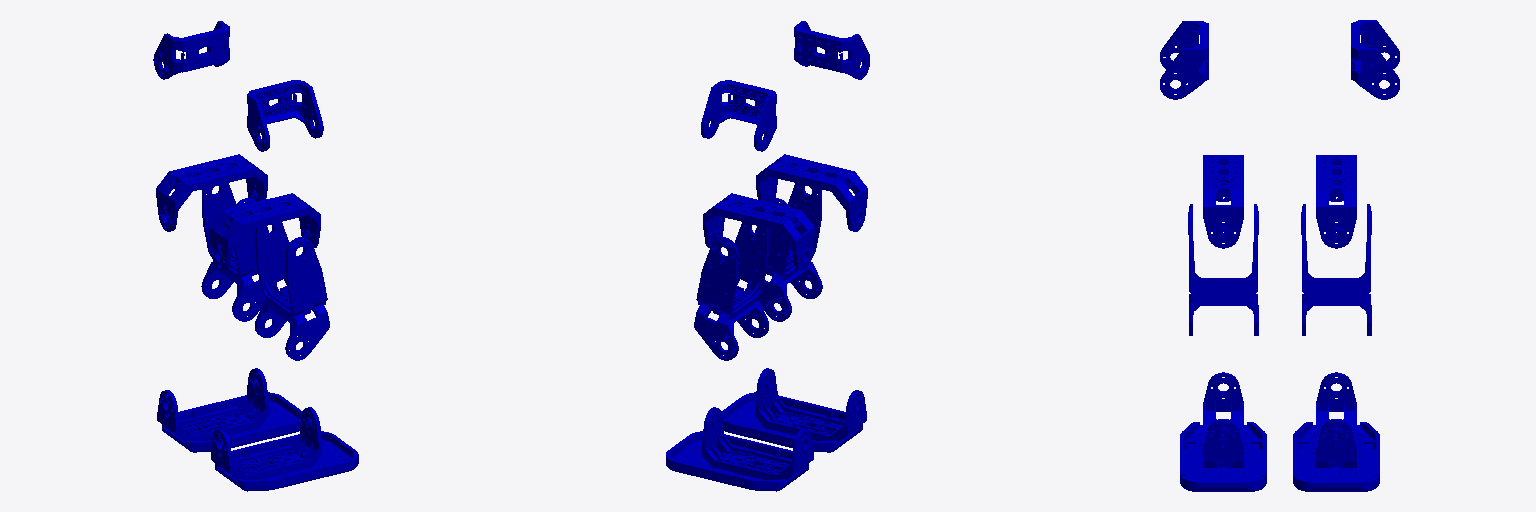
The robot description file, URDF, robot "loadscanner":
<?xml version="1.0"?>
<robot name="loadscanner">
  <material name="blue">
    <color rgba="0 0 0.8 1"/>
  </material>
  <material name="black">
    <color rgba="0 0 0 1"/>
  </material>
  <material name="white">
    <color rgba="1 1 1 1"/>
  </material>
  <material name="orange">
    <color rgba="1 0.4235 0.03921 1"/>
  </material>

  <link name="base_link">
    <origin xyz="0.0 0.0 0.0" rpy="0.0 0.0 0.0" />
  </link>

  <link name="base_footprint">
    <visual>
      <origin xyz="0.0 0.0 0.0" rpy="0.0 0.0 0.0" />
      <geometry>
        <!-- <box size="0.1 0.05 0.15" /> -->
        <mesh filename="package://bioloid_description/meshes/base.dae"/>
      </geometry>
      <material name="blue"/>
    </visual>
  </link>

  <joint name="base_link_to_footprint_joint" type="fixed">
    <parent link="base_link"/>
    <child link="base_footprint"/>
    <origin xyz="0.0 0.0 0.0" rpy="0.0 0.0 0.0"/>
  </joint>

  <!-- LEFT ARM -->

  <link name="left_shoulder_link">
    <visual>
      <origin xyz="0.0 0.0 0.0" rpy="0.0 0.0 0.0" />
      <geometry>
        <mesh filename="package://bioloid_description/meshes/shoulder.dae"/>
      </geometry>
      <material name="blue"/>
    </visual>
  </link>

  <joint name="left_shoulder_joint" type="revolute">
    <axis xyz="0 1 0"/>
    <limit effort="1000.0" lower="-3.14" upper="3.14" velocity="0.5"/>
    <parent link="base_footprint"/>
    <child link="left_shoulder_link"/>
    <origin xyz="0.0 0.049 0.0" rpy="0.0 0.0 0.0"/>
  </joint>

  <link name="left_arm_link">
    <visual>
      <origin xyz="0.0 0.0 0.0" rpy="0.0 0.0 0.0" />
      <geometry>
        <mesh filename="package://bioloid_description/meshes/arm.dae"/>
      </geometry>
      <material name="blue"/>
    </visual>
  </link>

  <joint name="left_arm_joint" type="revolute">
    <axis xyz="1 0 0"/>
    <limit effort="1000.0" lower="-3.14" upper="3.14" velocity="0.5"/>
    <parent link="left_shoulder_link"/>
    <child link="left_arm_link"/>
    <origin xyz="0.0 0.023 -0.0145" rpy="0.0 0.0 0.0"/>
  </joint>

  <link name="left_forearm_link">
    <visual>
      <origin xyz="0.0 0.0 0.0" rpy="0.0 0.0 0.0" />
      <geometry>
        <mesh filename="package://bioloid_description/meshes/left_forearm.dae"/>
      </geometry>
      <material name="blue"/>
    </visual>
  </link>

  <joint name="left_forearm_joint" type="revolute">
    <axis xyz="1 0 0"/>
    <limit effort="1000.0" lower="-3.14" upper="3.14" velocity="0.5"/>
    <parent link="left_arm_link"/>
    <child link="left_forearm_link"/>
    <origin xyz="0.0 0.0 -0.0675" rpy="0.0 0.0 0.0"/>
  </joint>

  <!-- RIGHT ARM -->
  <!-- Shoulder: visual Rotate 180 deg -->
  <link name="right_shoulder_link">
    <visual>
      <origin xyz="0.0 0.0 0.0" rpy="0.0 0.0 3.14" />
      <geometry>
        <mesh filename="package://bioloid_description/meshes/shoulder.dae"/>
      </geometry>
      <material name="blue"/>
    </visual>
  </link>

  <joint name="right_shoulder_joint" type="revolute">
    <axis xyz="0 1 0"/>
    <limit effort="1000.0" lower="-3.14" upper="3.14" velocity="0.5"/>
    <parent link="base_footprint"/>
    <child link="right_shoulder_link"/>
    <origin xyz="0.0 -0.049 0.0" rpy="0.0 0.0 0.0"/>
  </joint>

  <link name="right_arm_link">
    <visual>
      <origin xyz="0.0 0.0 0.0" rpy="0.0 0.0 0.0" />
      <geometry>
        <mesh filename="package://bioloid_description/meshes/arm.dae"/>
      </geometry>
      <material name="blue"/>
    </visual>
  </link>

  <joint name="right_arm_joint" type="revolute">
    <axis xyz="1 0 0"/>
    <limit effort="1000.0" lower="-3.14" upper="3.14" velocity="0.5"/>
    <parent link="right_shoulder_link"/>
    <child link="right_arm_link"/>
    <origin xyz="0.0 -0.023 -0.0145" rpy="0.0 0.0 0.0"/>
  </joint>

  <link name="right_forearm_link">
    <visual>
      <origin xyz="0.0 0.0 0.0" rpy="0.0 0.0 0.0" />
      <geometry>
        <mesh filename="package://bioloid_description/meshes/right_forearm.dae"/>
      </geometry>
      <material name="blue"/>
    </visual>
  </link>

  <joint name="right_forearm_joint" type="revolute">
    <axis xyz="1 0 0"/>
    <limit effort="1000.0" lower="-3.14" upper="3.14" velocity="0.5"/>
    <parent link="right_arm_link"/>
    <child link="right_forearm_link"/>
    <origin xyz="0.0 -0.0 -0.0675" rpy="0.0 0.0 0.0"/>
  </joint>


  <!-- LEG -->
  <!-- LEFT LEG -->

  <link name="left_hip_link">
    <visual>
      <origin xyz="0.0 0.0 0.0" rpy="0.0 0.0 0.0" />
      <geometry>
        <mesh filename="package://bioloid_description/meshes/hip.dae"/>
      </geometry>
      <material name="blue"/>
    </visual>
  </link>

  <joint name="left_hip_joint" type="revolute">
    <axis xyz="0 0 1"/>
    <limit effort="1000.0" lower="-3.14" upper="3.14" velocity="0.5"/>
    <parent link="base_footprint"/>
    <child link="left_hip_link"/>
    <origin xyz="0.0 0.039 -0.0918" rpy="0.0 0.0 0.0"/>
  </joint>

  <link name="left_hip_2_link">
    <visual>
      <origin xyz="0.0 0.0 0.0" rpy="0.0 0.0 0.0" />
      <geometry>
        <mesh filename="package://bioloid_description/meshes/hip-2.dae"/>
      </geometry>
      <material name="blue"/>
    </visual>
  </link>

  <joint name="left_hip_2_joint" type="revolute">
    <axis xyz="1 0 0"/>
    <limit effort="1000.0" lower="-3.14" upper="3.14" velocity="0.5"/>
    <parent link="left_hip_link"/>
    <child link="left_hip_2_link"/>
    <origin xyz="0.0 0.0 -0.029" rpy="0.0 0.0 0.0"/>
  </joint>

  <link name="left_thigh_link">
    <visual>
      <origin xyz="0.0 0.0 0.0" rpy="0.0 0.0 0.0" />
      <geometry>
        <mesh filename="package://bioloid_description/meshes/thigh.dae"/>
      </geometry>
      <material name="blue"/>
    </visual>
  </link>

  <joint name="left_thigh_joint" type="revolute">
    <axis xyz="0 1 0"/>
    <limit effort="1000.0" lower="-3.14" upper="3.14" velocity="0.5"/>
    <parent link="left_hip_2_link"/>
    <child link="left_thigh_link"/>
    <origin xyz="0.016 0.0 0.0" rpy="0.0 0.0 0.0"/>
  </joint>

  <link name="left_knee_link">
    <visual>
      <origin xyz="0.0 0.0 0.0" rpy="0.0 0.0 0.0" />
      <geometry>
        <mesh filename="package://bioloid_description/meshes/left-knee.dae"/>
      </geometry>
      <material name="blue"/>
    </visual>
  </link>

  <joint name="left_knee_joint" type="revolute">
    <axis xyz="0 1 0"/>
    <limit effort="1000.0" lower="-3.14" upper="3.14" velocity="0.5"/>
    <parent link="left_thigh_link"/>
    <child link="left_knee_link"/>
    <origin xyz="0.0 0.0 -0.076" rpy="0.0 0.0 0.0"/>
  </joint>

  <link name="left_ankle_link">
    <visual>
      <origin xyz="0.0 0.0 0.0" rpy="0.0 0.0 0.0" />
      <geometry>
        <mesh filename="package://bioloid_description/meshes/ankle.dae"/>
      </geometry>
      <material name="blue"/>
    </visual>
  </link>

  <joint name="left_ankle_joint" type="revolute">
    <axis xyz="0 1 0"/>
    <limit effort="1000.0" lower="-3.14" upper="3.14" velocity="0.5"/>
    <parent link="left_knee_link"/>
    <child link="left_ankle_link"/>
    <origin xyz="0.0 0.00 -0.0765" rpy="0.0 0.0 0.0"/>
  </joint>

  <link name="left_foot_link">
    <visual>
      <origin xyz="0.0 0.0 0.0" rpy="0.0 0.0 0.0" />
      <geometry>
        <mesh filename="package://bioloid_description/meshes/foot.dae"/>
      </geometry>
      <material name="blue"/>
    </visual>
  </link>

  <joint name="left_foot_joint" type="revolute">
    <axis xyz="1 0 0"/>
    <limit effort="1000.0" lower="-3.14" upper="3.14" velocity="0.5"/>
    <parent link="left_ankle_link"/>
    <child link="left_foot_link"/>
    <origin xyz="-0.015 0.00 0.0" rpy="0.0 0.0 0.0"/>
  </joint>


  <!-- RIGH LEG -->

  <link name="right_hip_link">
    <visual>
      <origin xyz="0.0 0.0 0.0" rpy="0.0 0.0 0.0" />
      <geometry>
        <mesh filename="package://bioloid_description/meshes/hip.dae"/>
      </geometry>
      <material name="blue"/>
    </visual>
  </link>

  <joint name="right_hip_joint" type="revolute">
    <axis xyz="0 0 1"/>
    <limit effort="1000.0" lower="-3.14" upper="3.14" velocity="0.5"/>
    <parent link="base_footprint"/>
    <child link="right_hip_link"/>
    <origin xyz="0.0 -0.039 -0.0918" rpy="0.0 0.0 0.0"/>
  </joint>

  <link name="right_hip_2_link">
    <visual>
      <origin xyz="0.0 0.0 0.0" rpy="0.0 0.0 0.0" />
      <geometry>
        <mesh filename="package://bioloid_description/meshes/hip-2.dae"/>
      </geometry>
      <material name="blue"/>
    </visual>
  </link>

  <joint name="right_hip_2_joint" type="revolute">
    <axis xyz="1 0 0"/>
    <limit effort="1000.0" lower="-3.14" upper="3.14" velocity="0.5"/>
    <parent link="right_hip_link"/>
    <child link="right_hip_2_link"/>
    <origin xyz="0.0 0.0 -0.029" rpy="0.0 0.0 0.0"/>
  </joint>

  <link name="right_thigh_link">
    <visual>
      <origin xyz="0.0 0.0 0.0" rpy="0.0 0.0 0.0" />
      <geometry>
        <mesh filename="package://bioloid_description/meshes/thigh.dae"/>
      </geometry>
      <material name="blue"/>
    </visual>
  </link>

  <joint name="right_thigh_joint" type="revolute">
    <axis xyz="0 1 0"/>
    <limit effort="1000.0" lower="-3.14" upper="3.14" velocity="0.5"/>
    <parent link="right_hip_2_link"/>
    <child link="right_thigh_link"/>
    <origin xyz="0.016 0.0 0.0" rpy="0.0 0.0 0.0"/>
  </joint>

  <link name="right_knee_link">
    <visual>
      <origin xyz="0.0 0.0 0.0" rpy="0.0 0.0 0.0" />
      <geometry>
        <mesh filename="package://bioloid_description/meshes/right-knee.dae"/>
      </geometry>
      <material name="blue"/>
    </visual>
  </link>

  <joint name="right_knee_joint" type="revolute">
    <axis xyz="0 1 0"/>
    <limit effort="1000.0" lower="-3.14" upper="3.14" velocity="0.5"/>
    <parent link="right_thigh_link"/>
    <child link="right_knee_link"/>
    <origin xyz="0.0 0.0 -0.076" rpy="0.0 0.0 0.0"/>
  </joint>

  <link name="right_ankle_link">
    <visual>
      <origin xyz="0.0 0.0 0.0" rpy="0.0 0.0 0.0" />
      <geometry>
        <mesh filename="package://bioloid_description/meshes/ankle.dae"/>
      </geometry>
      <material name="blue"/>
    </visual>
  </link>

  <joint name="right_ankle_joint" type="revolute">
    <axis xyz="0 1 0"/>
    <limit effort="1000.0" lower="-3.14" upper="3.14" velocity="0.5"/>
    <parent link="right_knee_link"/>
    <child link="right_ankle_link"/>
    <origin xyz="0.0 0.00 -0.0765" rpy="0.0 0.0 0.0"/>
  </joint>

  <link name="right_foot_link">
    <visual>
      <origin xyz="0.0 0.0 0.0" rpy="0.0 0.0 0.0" />
      <geometry>
        <mesh filename="package://bioloid_description/meshes/foot.dae"/>
      </geometry>
      <material name="blue"/>
    </visual>
  </link>

  <joint name="right_foot_joint" type="revolute">
    <axis xyz="1 0 0"/>
    <limit effort="1000.0" lower="-3.14" upper="3.14" velocity="0.5"/>
    <parent link="right_ankle_link"/>
    <child link="right_foot_link"/>
    <origin xyz="-0.015 0.00 0.0" rpy="0.0 0.0 0.0"/>
  </joint>
  
</robot>

--- What the picture shows (computed from the rendered views, not written in the file) ---
3 views of the same robot in one strip: view 1: azimuth 30°, elevation 25°; view 2: azimuth 150°, elevation 25°; view 3: azimuth 270°, elevation 25° (orthographic).
Robot: loadscanner — 20 links, 19 joints (18 revolute, 1 fixed); root link base_link; default pose: every joint at zero.
Links seen in each view (by area): view 1: right_thigh_link, right_foot_link, left_foot_link, left_thigh_link, right_hip_link, left_hip_link, right_shoulder_link, left_shoulder_link; view 2: left_thigh_link, left_foot_link, right_foot_link, right_thigh_link, left_hip_link, right_hip_link, left_shoulder_link, right_shoulder_link; view 3: left_foot_link, right_foot_link, left_hip_link, right_hip_link, left_thigh_link, right_thigh_link, left_shoulder_link, right_shoulder_link.
Link boxes in pixels (box(x1,y1,x2,y2)): right_thigh_link: box(255, 222, 329, 360); right_foot_link: box(211, 407, 358, 491); left_foot_link: box(157, 368, 302, 452); left_thigh_link: box(201, 183, 276, 321); right_hip_link: box(209, 193, 320, 270); left_hip_link: box(156, 154, 267, 231); right_shoulder_link: box(247, 80, 323, 151); left_shoulder_link: box(153, 21, 229, 79); left_thigh_link: box(694, 222, 768, 360); left_foot_link: box(666, 407, 813, 491); right_foot_link: box(721, 368, 866, 452); right_thigh_link: box(747, 183, 822, 321); left_hip_link: box(703, 193, 814, 270); right_hip_link: box(756, 154, 867, 231); left_shoulder_link: box(701, 80, 776, 151); right_shoulder_link: box(794, 21, 869, 79); left_foot_link: box(1293, 372, 1379, 491); right_foot_link: box(1180, 372, 1266, 491); left_hip_link: box(1316, 155, 1356, 248); right_hip_link: box(1203, 155, 1243, 248); left_thigh_link: box(1301, 204, 1371, 335); right_thigh_link: box(1188, 204, 1258, 335); left_shoulder_link: box(1351, 20, 1399, 99); right_shoulder_link: box(1160, 21, 1208, 99).
Size in the robot's own frame: 0.1082 by 0.166 by 0.3179 metres.
8 mesh visuals loaded from 12 distinct referenced files (4 Collada DAE); not drawn: 11 (reference not matched to a file when rendering).